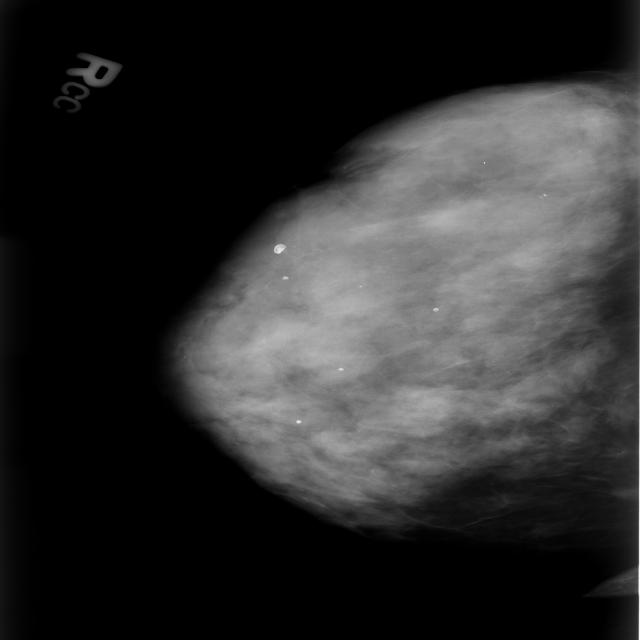normal: (179, 81, 640, 542)
